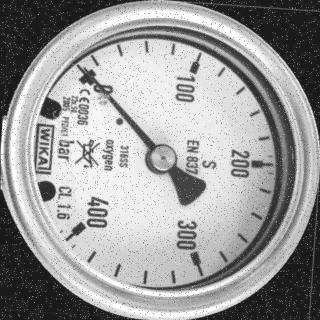gauge: (0, 0, 320, 320), (146, 143, 178, 174), (82, 66, 110, 98), (68, 213, 98, 240), (79, 63, 93, 77)
